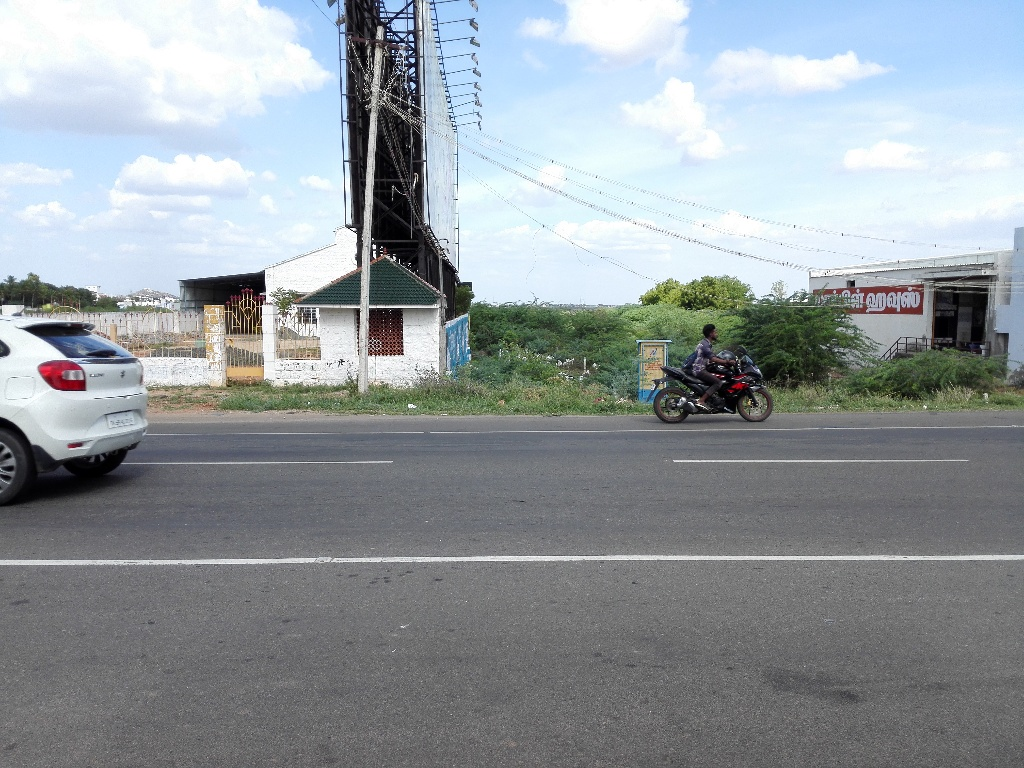biker: (634, 287, 794, 436)
nohelmet: (693, 321, 728, 352)
